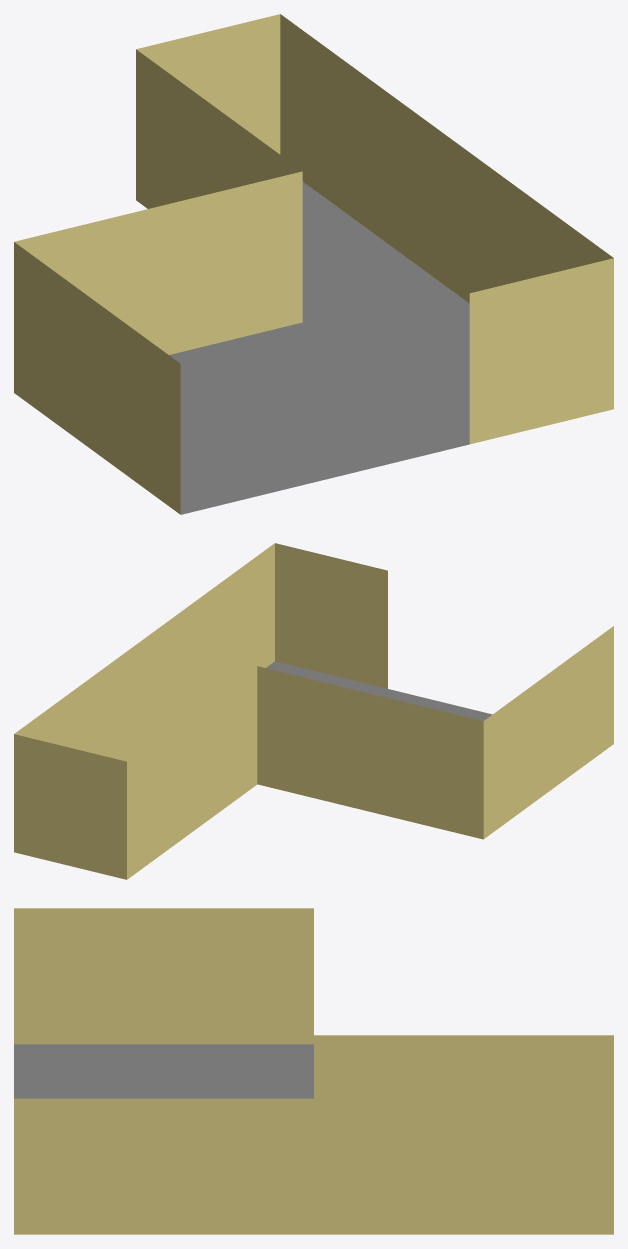
The model's file is ElevatorExterior.dae.
3 renders of one model, top to bottom at view 1: azimuth 30°, elevation 25°; view 2: azimuth 150°, elevation 25°; view 3: azimuth 270°, elevation 25°, orthographic. The views are drawn at different scales.
Parts seen in each view (by area): view 1: Walls, Floor; view 2: Walls, Floor; view 3: Walls, Floor.
Part boxes in pixels (bbox=[...]): Walls: bbox=[14, 14, 613, 514]; Floor: bbox=[169, 182, 469, 514]; Walls: bbox=[14, 543, 613, 879]; Floor: bbox=[266, 661, 492, 721]; Walls: bbox=[14, 908, 613, 1234]; Floor: bbox=[14, 1044, 313, 1098].
Size of the model in its own units: 120 by 160 by 40.
